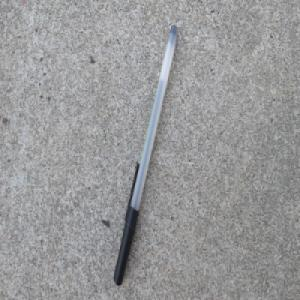Pen: (112, 19, 179, 285)
